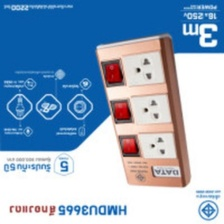three_eye_plug: (92, 28, 195, 195)
